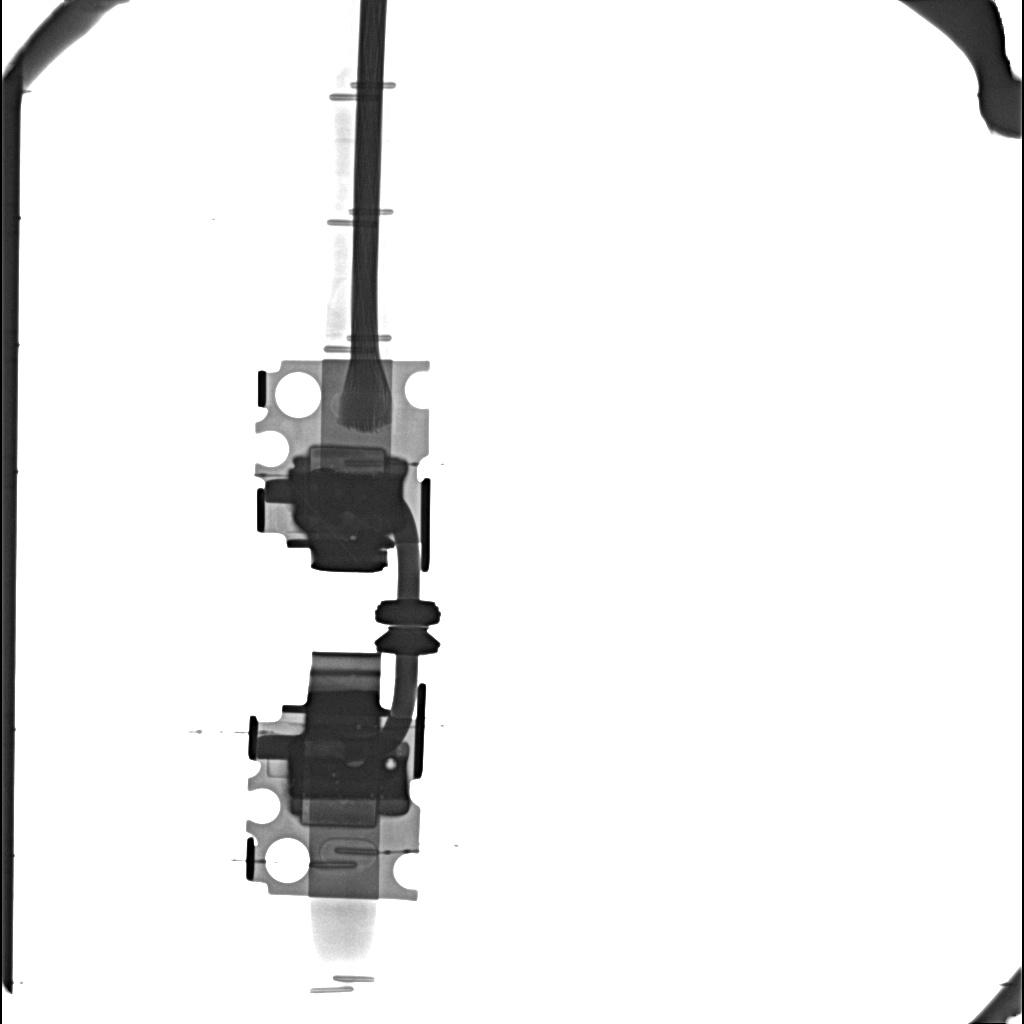气孔: (299, 803, 378, 830), (307, 444, 388, 469)
水纹: (292, 471, 402, 533), (287, 756, 408, 801)
